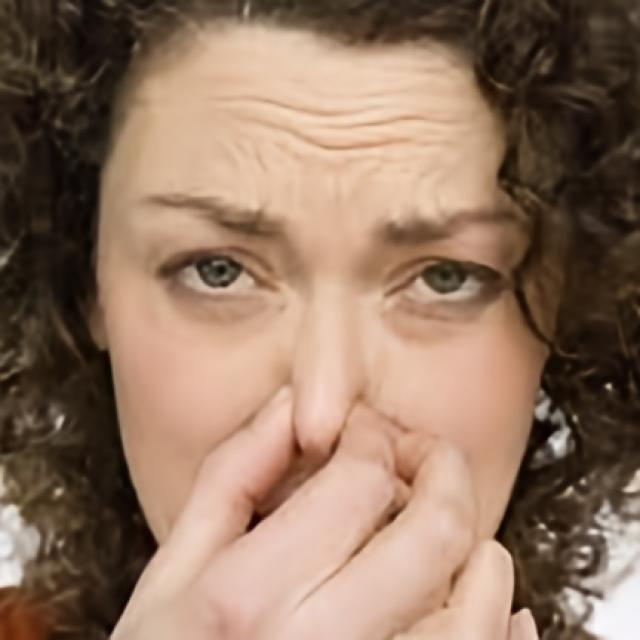disgust: (97, 12, 548, 628)
